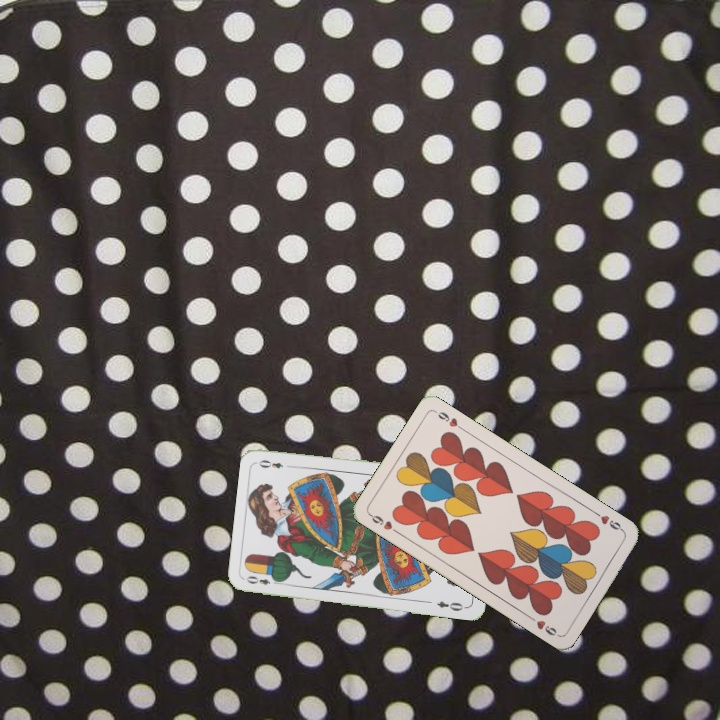EO: (242, 572, 282, 588)
H9: (590, 508, 627, 535), (365, 510, 402, 536)
